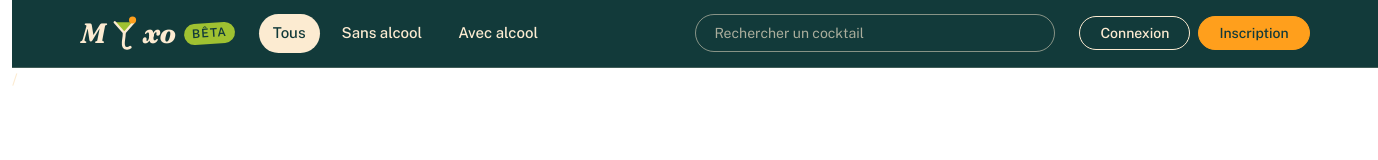
Test: Header (pages) › la recherche envoie vers /recherche avec le terme encodé
Type "  piña colada " into the search field labelled "Rechercher un cocktail" at (875, 33), box [695,14,1055,52]
Then press Enter
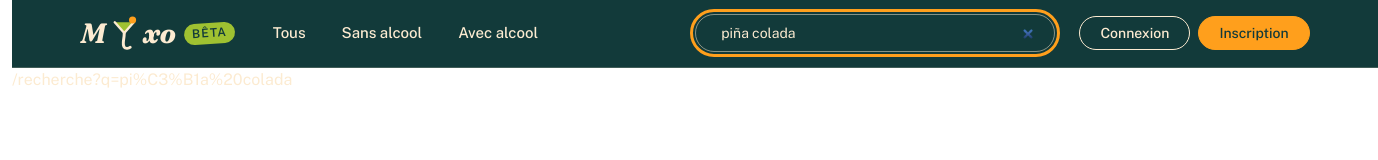
Check: the text with test id "emplacement" reads "/recherche?q=pi%C3%B1a%20colada", box [12,70,292,88]
